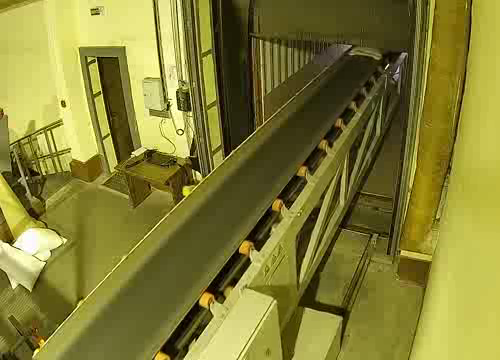bag: (348, 46, 386, 62)
